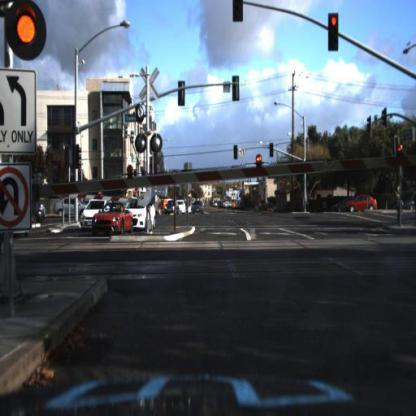car: (93, 200, 135, 236), (51, 197, 94, 224), (129, 201, 159, 233), (345, 194, 381, 217), (346, 191, 379, 214), (81, 199, 105, 230), (333, 191, 354, 215), (332, 196, 354, 214), (30, 208, 45, 231), (191, 199, 205, 217), (402, 193, 416, 211), (220, 194, 232, 214), (31, 202, 49, 215), (175, 199, 186, 220), (164, 201, 180, 215), (163, 199, 175, 214), (178, 197, 187, 215)
pedestrian: (395, 185, 405, 227)
trafficLight: (232, 138, 243, 164), (234, 2, 246, 25)
trafficLight-Red: (1, 1, 70, 67), (12, 3, 44, 55), (324, 9, 345, 58), (329, 14, 341, 52), (234, 144, 239, 162), (271, 142, 275, 158)
